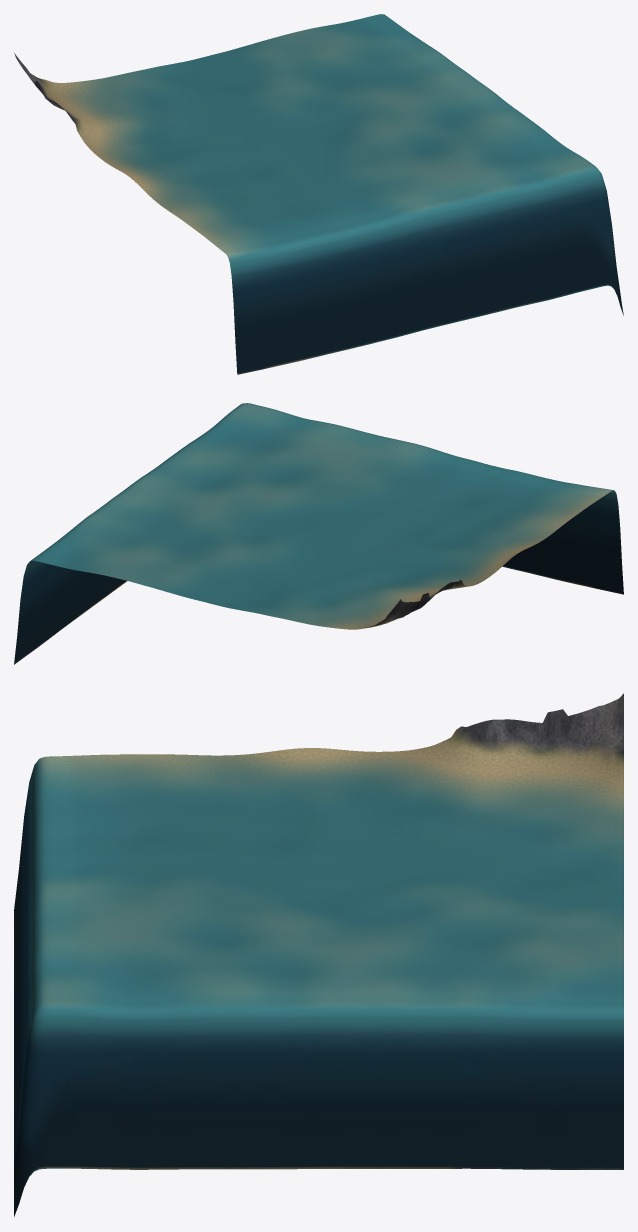
3 renders of one model, top to bottom at view 1: azimuth 30°, elevation 25°; view 2: azimuth 150°, elevation 25°; view 3: azimuth 270°, elevation 25°, orthographic. The views are drawn at different scales.
Parts seen in each view (by area): view 1: t192_000; view 2: t192_000; view 3: t192_000.
Boxes of the visible parts, bbox=[...] form: t192_000: bbox=[14, 14, 623, 374]; t192_000: bbox=[14, 403, 623, 664]; t192_000: bbox=[14, 693, 623, 1216].
Bounding box in the file's own units: 64 × 30.89 × 64.
Materials: 1 (1 with a texture image).
